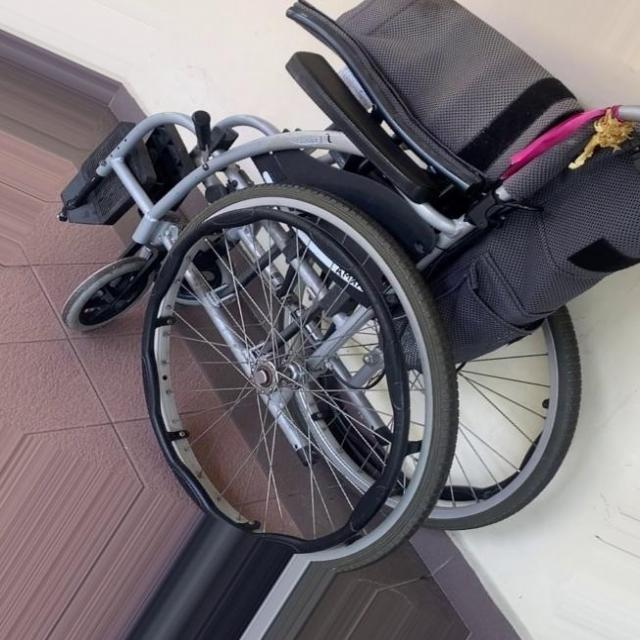wheelchair: (49, 0, 640, 577)
